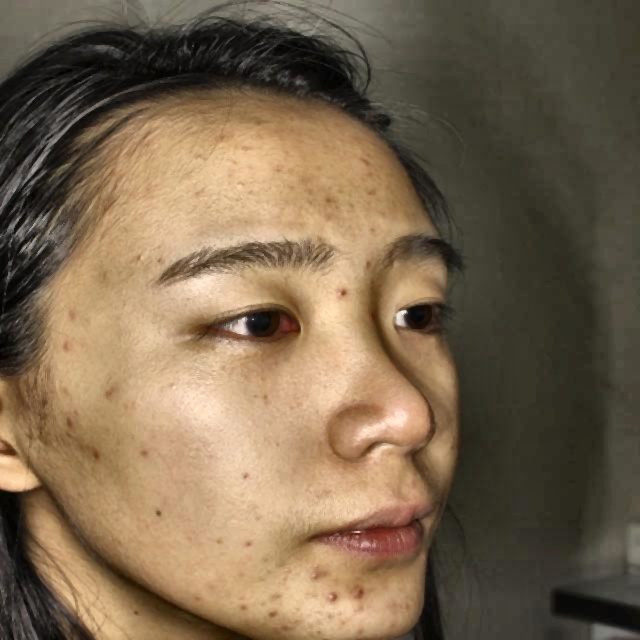pustule: (58, 413, 94, 455), (237, 109, 278, 141), (317, 590, 350, 620), (260, 590, 282, 628), (349, 574, 372, 607), (293, 564, 325, 587), (51, 330, 77, 356)
